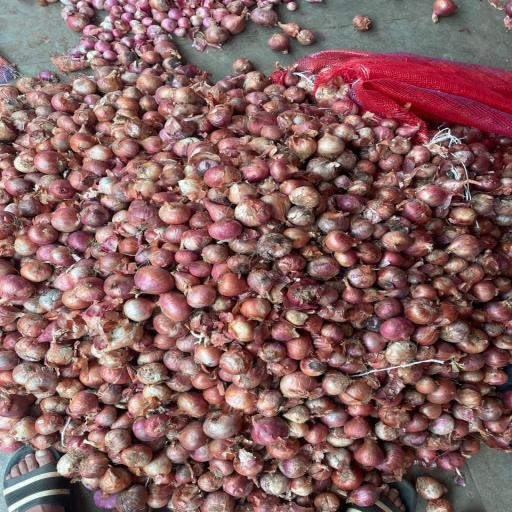damaged: (209, 415, 239, 436), (128, 301, 153, 320), (120, 493, 145, 510), (318, 136, 337, 154), (117, 185, 135, 200), (197, 162, 216, 172)
healthy: (256, 418, 290, 444), (142, 270, 167, 290), (164, 297, 185, 320), (216, 221, 240, 240), (40, 154, 64, 172), (412, 302, 433, 322), (162, 205, 189, 220), (190, 290, 216, 304), (124, 452, 150, 466), (173, 12, 188, 36), (34, 226, 56, 242), (77, 282, 101, 296), (116, 140, 136, 156), (113, 8, 135, 22), (457, 240, 473, 259), (352, 419, 367, 439), (363, 444, 377, 465), (388, 233, 404, 251), (76, 80, 97, 93), (56, 184, 72, 200), (422, 188, 442, 199), (121, 496, 130, 497)
rotten: (287, 113, 319, 135), (64, 455, 92, 479), (286, 377, 318, 398), (151, 414, 184, 434), (298, 285, 319, 310), (5, 100, 30, 121), (242, 206, 271, 224), (191, 313, 213, 336), (267, 238, 289, 258), (338, 196, 364, 212), (33, 378, 56, 396), (30, 120, 51, 139), (143, 366, 165, 384), (293, 208, 313, 226), (209, 175, 240, 186), (211, 108, 228, 128), (166, 58, 182, 72), (344, 155, 357, 165), (372, 318, 380, 330)
sprouted: (440, 345, 458, 363), (418, 146, 434, 156)
